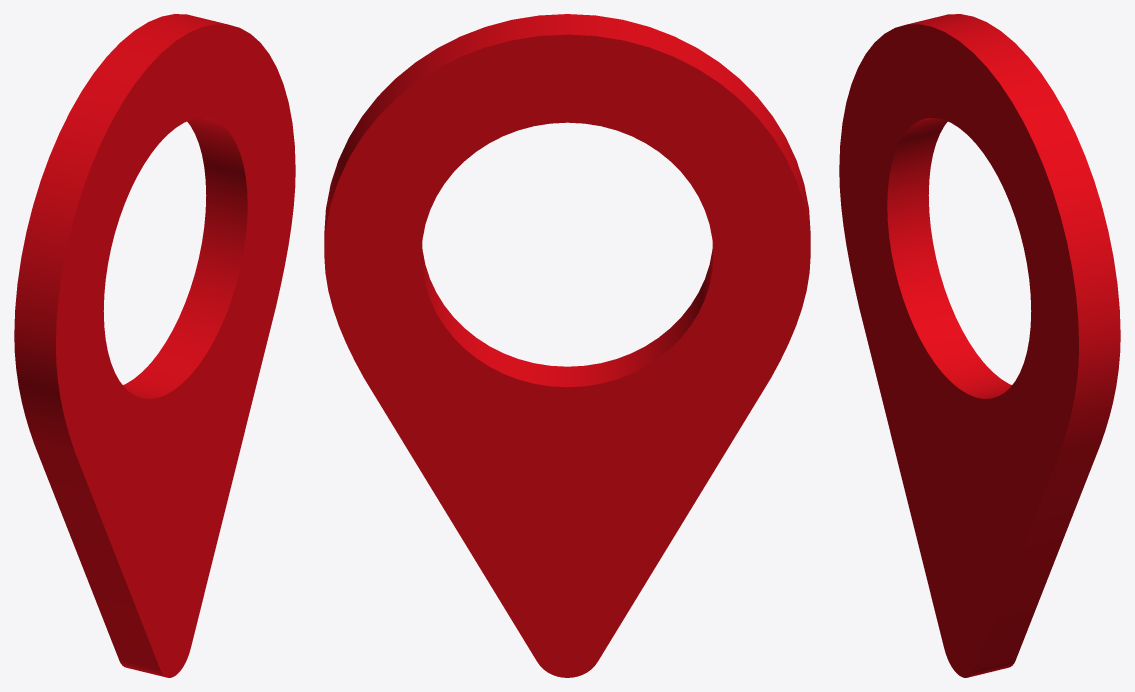
File: pin.glb
3 renders of one model, left to right at view 1: azimuth 30°, elevation 25°; view 2: azimuth 150°, elevation 25°; view 3: azimuth 270°, elevation 25°, orthographic.
Visible parts, largest first — view 1: pin; view 2: pin; view 3: pin.
Boxes of the visible parts, x1,y1,x2,y2 form: pin: (14, 14, 295, 677); pin: (324, 14, 810, 677); pin: (839, 14, 1120, 677).
Size of the model in its own units: 0.000458 by 0.00073 by 0.000293.
